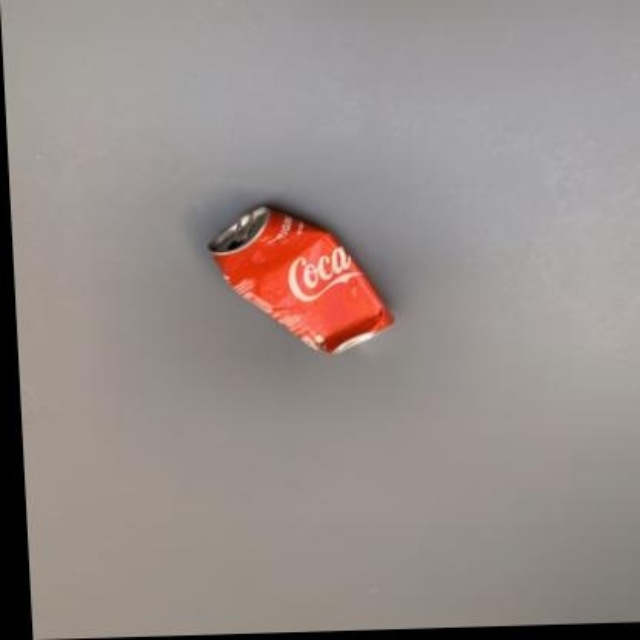trash: (208, 205, 392, 352)
